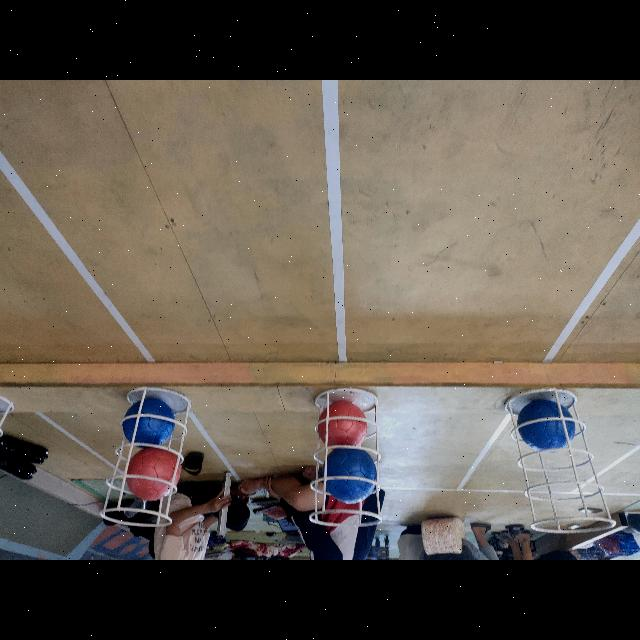B: (516, 400, 576, 454), (323, 446, 377, 504), (122, 398, 174, 450)
R: (127, 446, 181, 502), (318, 401, 367, 449)
